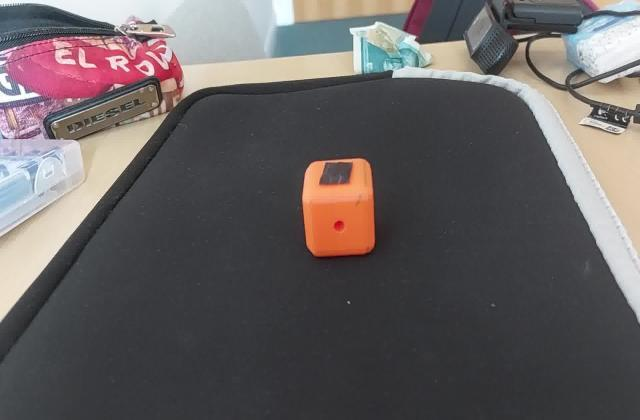black: (315, 158, 360, 186)
cube: (302, 155, 379, 259)
